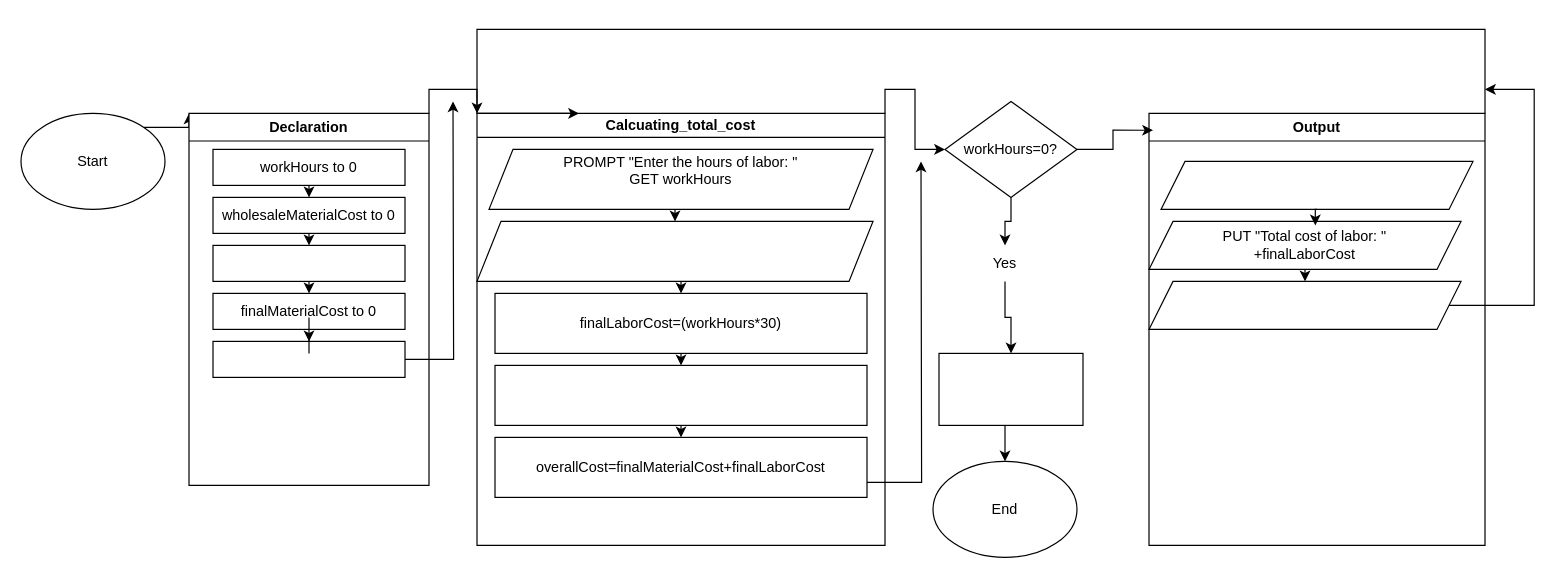
Image size: 1565x578. Some labels were removed from this diagram. Each missing label, with the centre of its shape:
"Order information complete. Thank you for working with us!": the point at 1010,388
finalLaborCost to 0: the point at 308,358
finalMaterialCost=(wholesaleMaterialCost*1.20): the point at 680,394
overallCost to 0: the point at 308,262
PROMPT "Enter the wholesale cost of materials: " GET materialCost: the point at 674,250
PUT "Total cost of materials: " +finalMaterialCost: the point at 1316,184
PUT "Total overall cost: " +overalCost: the point at 1304,304
